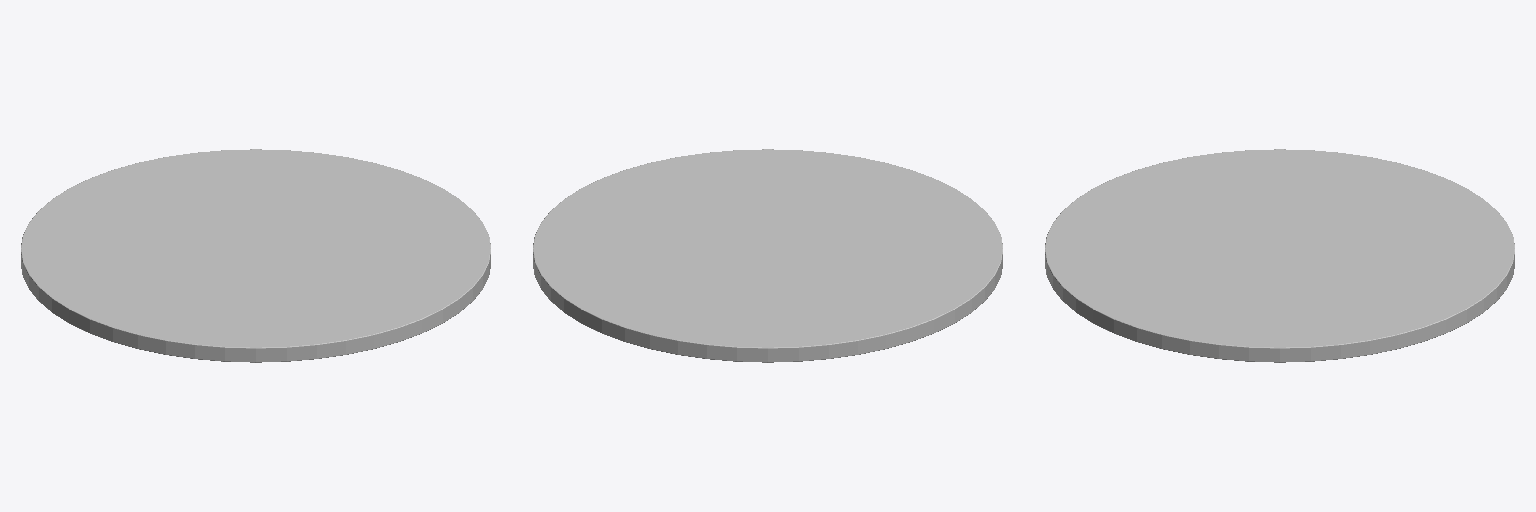
File: dollar.obj
The picture shows the model from 3 angles: view 1: azimuth 30°, elevation 25°; view 2: azimuth 150°, elevation 25°; view 3: azimuth 270°, elevation 25°; orthographic projection.
Parts seen in each view (by area): view 1: dollar; view 2: dollar; view 3: dollar.
Boxes of the visible parts, <box> form: dollar: <box>21,149,490,362</box>; dollar: <box>533,149,1002,362</box>; dollar: <box>1045,149,1514,362</box>.
Size of the model in its own units: 2 by 0.07 by 2.